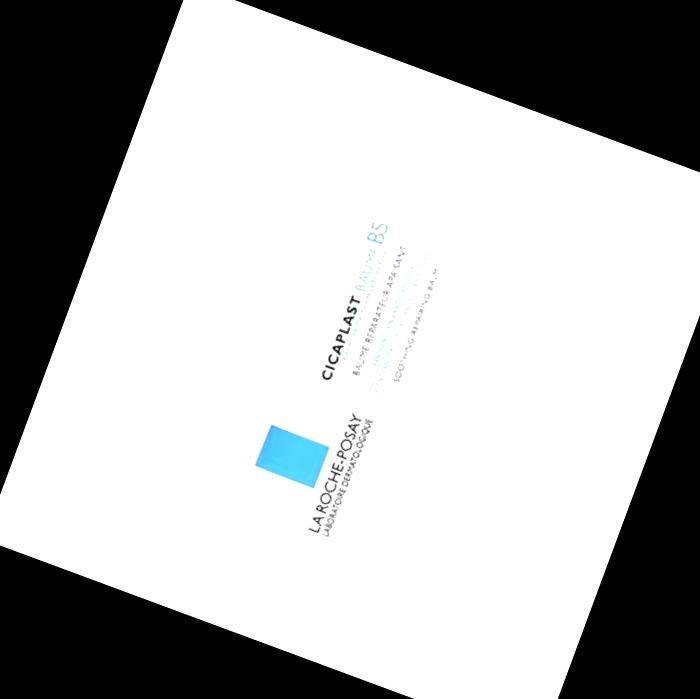cosmetic: (173, 84, 550, 627)
